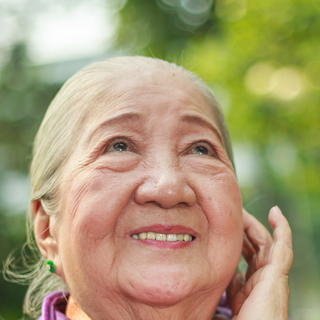eye: (93, 133, 142, 158), (178, 136, 222, 161)
